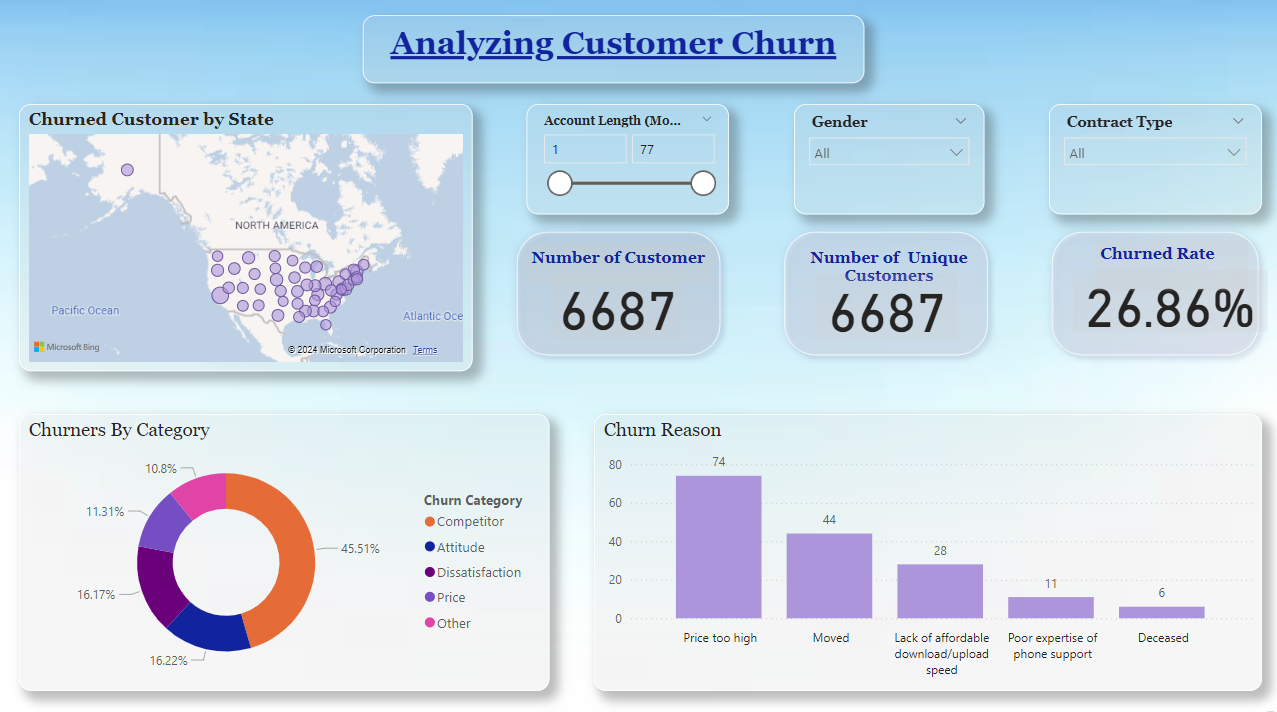

This screenshot's page, from the dashboard's own definition file:
{"tool":"powerbi","page":{"name":"Data Check","canvas":[1280,720],"ordinal":0},"visuals":[{"type":"shape","box":[508.7,223.3,221.7,141.7],"z":0},{"type":"shape","box":[776.7,223.3,221.7,141.7],"z":1000},{"type":"textbox","box":[527.5,245,186.2,40],"z":2000},{"type":"textbox","box":[1263.8,708.1,16.5,12.3],"z":3000},{"type":"textbox","box":[795,245,190,58.3],"z":4000},{"type":"card","fields":{"Values":["Sum(Table.Number of Customers)"]},"box":[553.7,271.7,130,68.3],"z":5000},{"type":"card","fields":{"Values":["Sum(Table.Unique Customers)"]},"box":[816.7,275,143.3,65],"z":6000},{"type":"shape","box":[1043.4,223.3,225,141.7],"z":7000},{"type":"card","fields":{"Values":["Table.Churn Rate"]},"box":[1073.4,271.7,195,61.7],"z":8000},{"type":"textbox","box":[1096.2,241.2,152.5,50],"z":9000},{"type":"columnChart","title":"Churn Reason","fields":{"Category":["Data.Churn Reason"],"Y":["CountNonNull(Data.Customer ID)"]},"box":[595,415,668.3,276.7],"z":10000},{"type":"donutChart","title":"Churners By Category","fields":{"Category":["Data.Churn Category"],"Y":["CountNonNull(Data.Customer ID)"]},"box":[20,415,530,276.7],"z":11000},{"type":"map","title":"Churned Customer by State","fields":{"Category":["Data.State"],"Size":["Table.Churn Rate"],"X":["Avg(Table.Number of Customers)"]},"box":[20,105,453.8,267.5],"z":12000},{"type":"slicer","fields":{"Values":["Data.Account Length (in months)"]},"box":[527.5,105,202.5,110],"z":13000},{"type":"slicer","fields":{"Values":["Data.Gender"]},"box":[795,105,190,110],"z":14000},{"type":"slicer","fields":{"Values":["Data.Contract Type"]},"box":[1050,105,212.5,110],"z":15000},{"type":"textbox","box":[363.3,16.7,501.7,68.3],"z":16000}]}

Visuals, with their boxes in screenshot pixels (x1, y1, x2, y2), scaled from the page's 1280x720 canvas onto the 1277x712 screenshot:
shape: 508, 221, 729, 361
shape: 775, 221, 996, 361
textbox: 526, 242, 712, 282
textbox: 1261, 700, 1276, 711
textbox: 793, 242, 983, 300
card - Sum(Table.Number of Customers): 552, 269, 682, 336
card - Sum(Table.Unique Customers): 815, 272, 958, 336
shape: 1041, 221, 1265, 361
card - Table.Churn Rate: 1071, 269, 1265, 330
textbox: 1094, 239, 1246, 288
"Churn Reason" columnChart: 594, 410, 1260, 684
"Churners By Category" donutChart: 20, 410, 549, 684
"Churned Customer by State" map: 20, 104, 473, 368
slicer - Data.Account Length (in months): 526, 104, 728, 213
slicer - Data.Gender: 793, 104, 983, 213
slicer - Data.Contract Type: 1048, 104, 1260, 213
textbox: 362, 17, 863, 84
